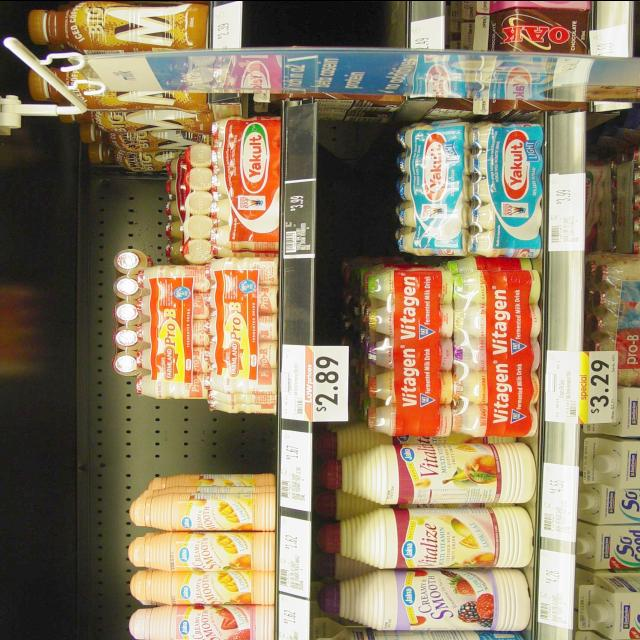empty_space: (95, 415, 262, 473), (263, 0, 403, 39)
